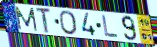4: (81, 12, 98, 38)
9: (121, 15, 139, 42)
L: (101, 14, 120, 39)
M: (14, 6, 39, 32)
O: (58, 9, 79, 36)
T: (36, 8, 53, 34)
